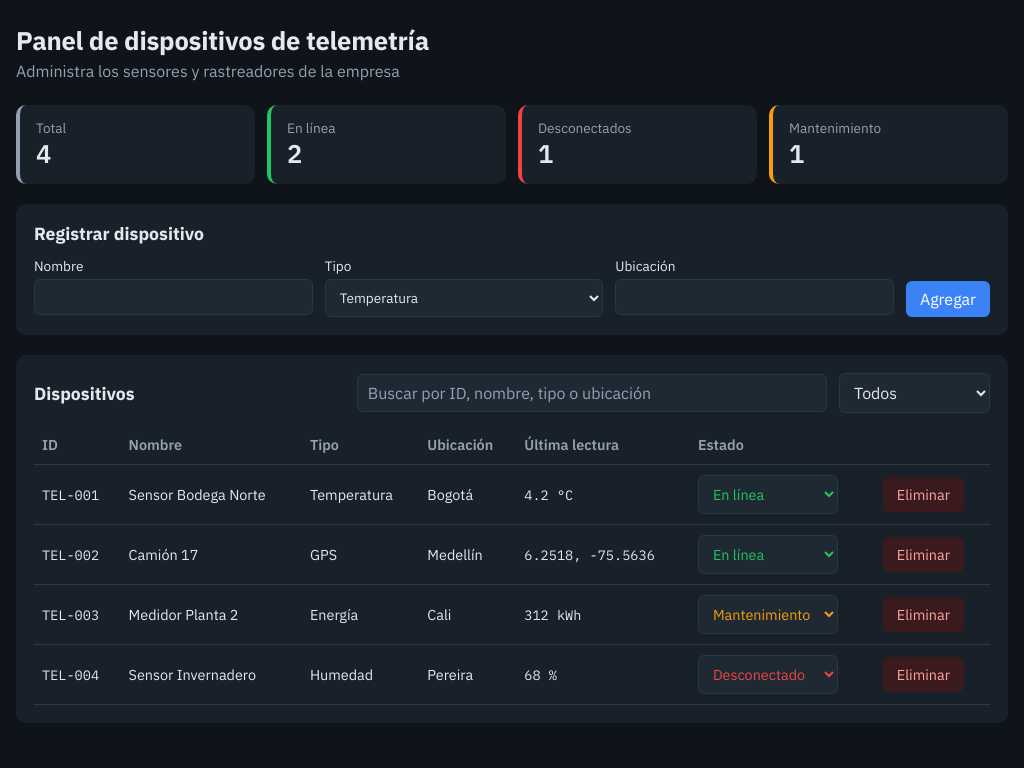
it: App › registra un dispositivo nuevo
Type "Sensor Cuarto Frío" into the field labelled "Nombre" at (173,297), box top-left (34, 279), bottom-right (313, 315)
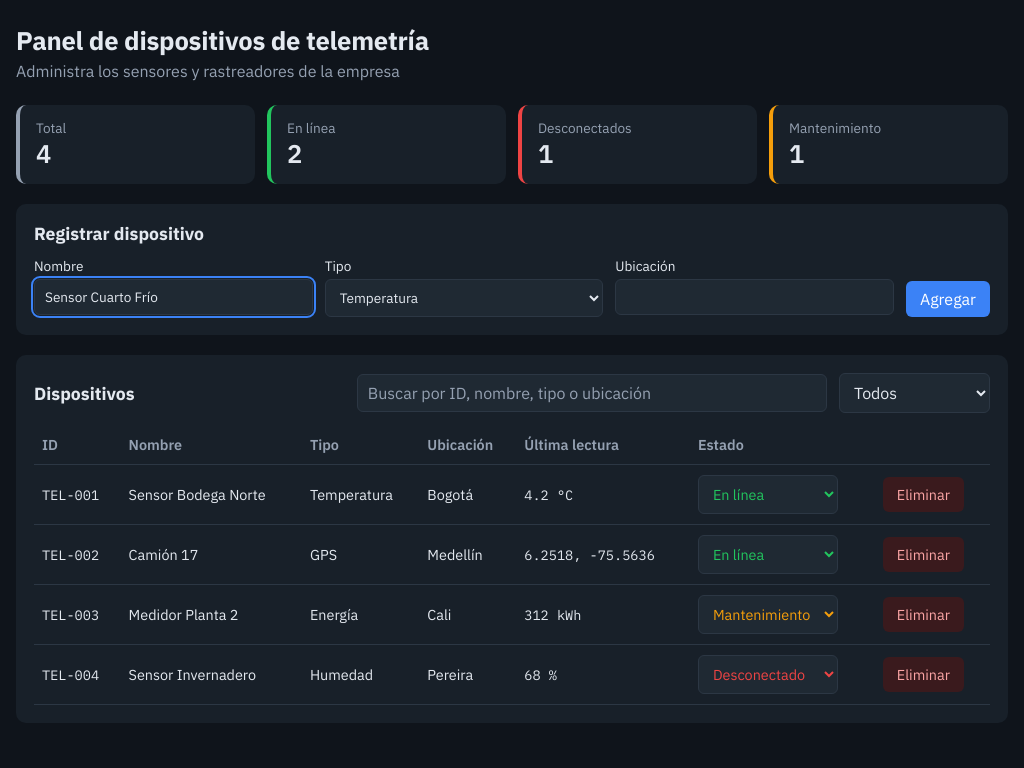
Select "Temperatura" in the dropdown labelled "Tipo" at (464,298), box top-left (325, 279), bottom-right (603, 317)
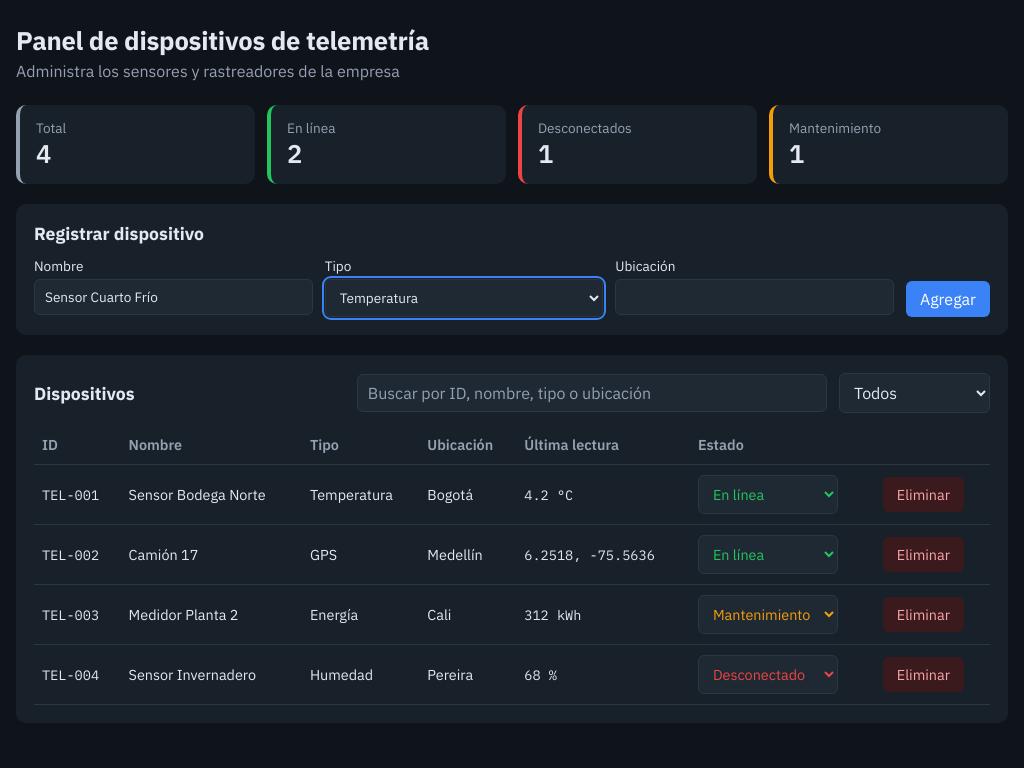
Type "Barranquilla" into the field labelled "Ubicación" at (755,297), box top-left (615, 279), bottom-right (894, 315)
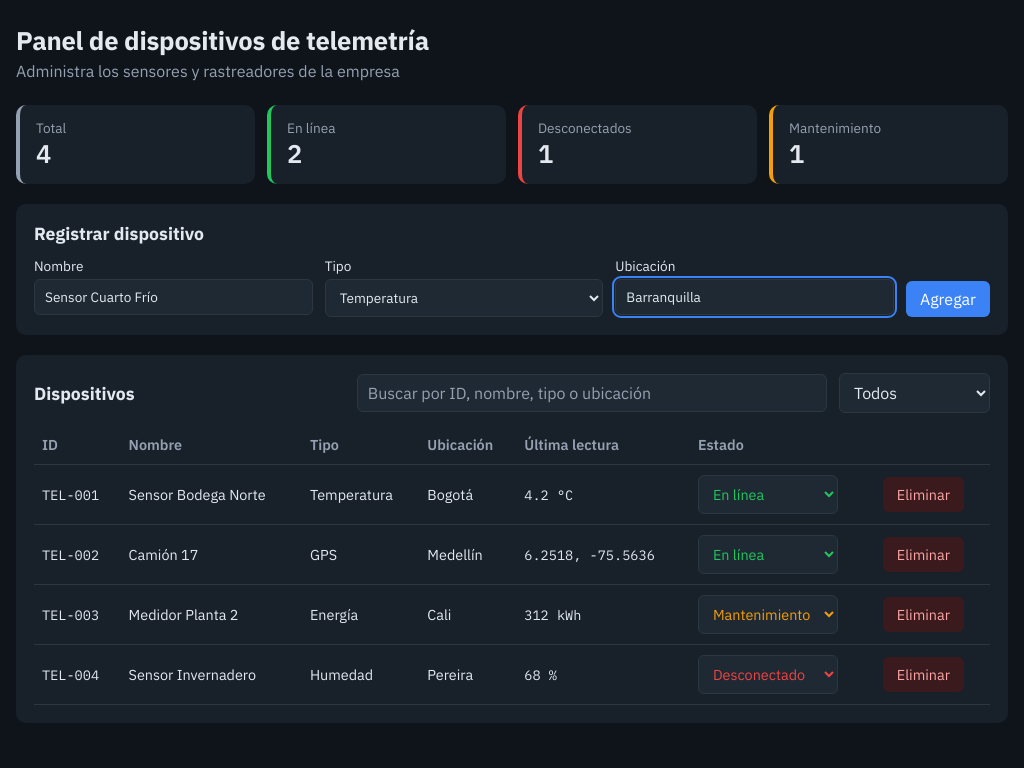
Click the button "Agregar" at (948,299), box top-left (906, 281), bottom-right (990, 317)
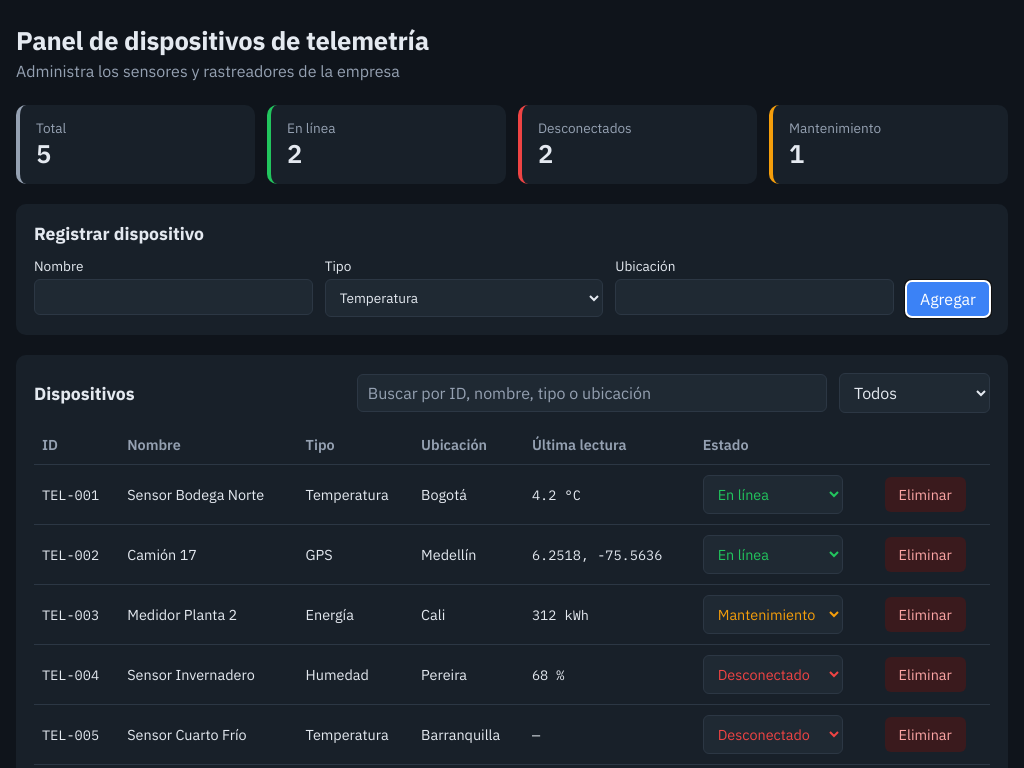
Check: the text "TEL-005" is shown, box top-left (34, 704), bottom-right (119, 764)
Check: the text with test id "total" reads "5", box top-left (36, 137), bottom-right (51, 170)
